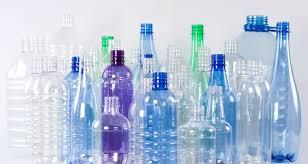Plastic bottle: (1, 3, 308, 164)
